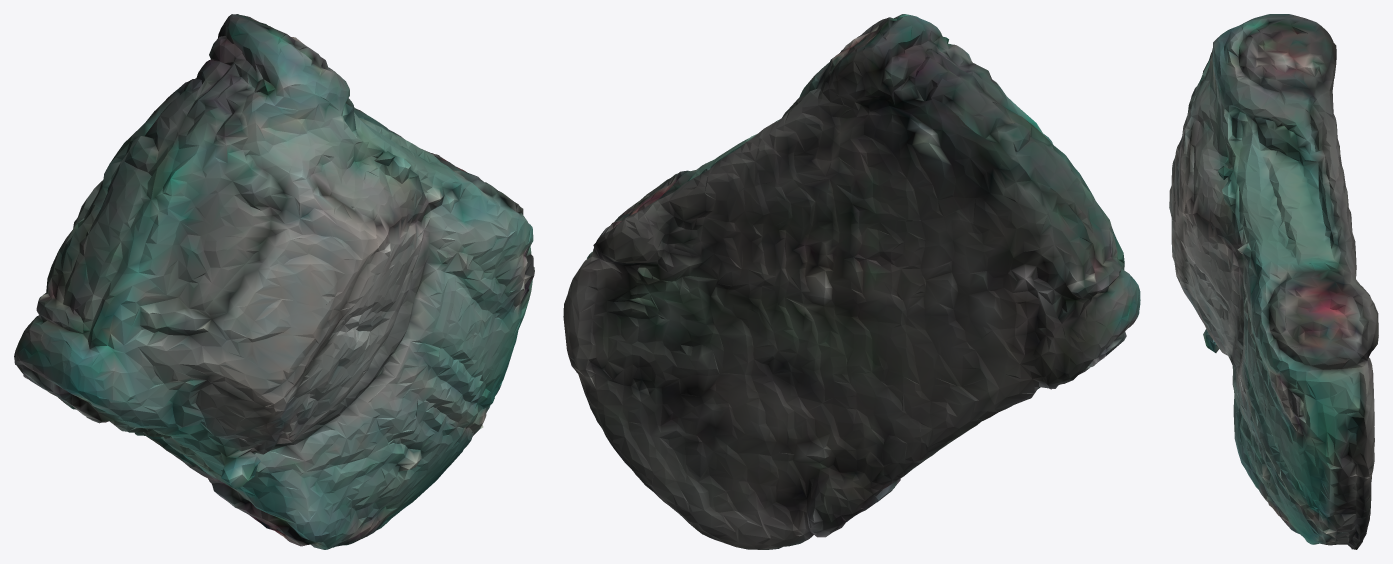
File: ekogt-tsr.glb
3 views of the same model, side by side, from view 1: azimuth 30°, elevation 25°; view 2: azimuth 150°, elevation 25°; view 3: azimuth 270°, elevation 25° (orthographic). The views are drawn at different scales.
Parts seen in each view (by area): view 1: world; view 2: world; view 3: world.
Part boxes in pixels (x1,y1,x2,y2): world: (14, 14, 534, 549); world: (563, 14, 1140, 549); world: (1169, 14, 1378, 549).
Size of the model in its own units: 0.9553 by 0.9451 by 0.3794.
